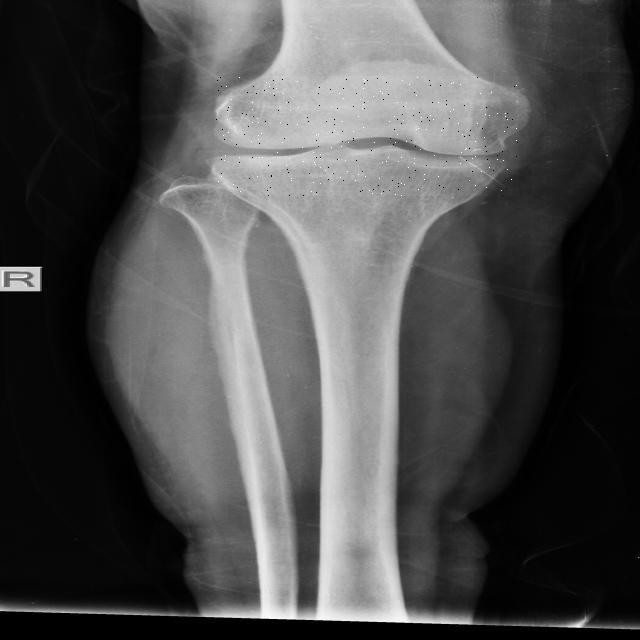normal: (215, 76, 519, 196)
